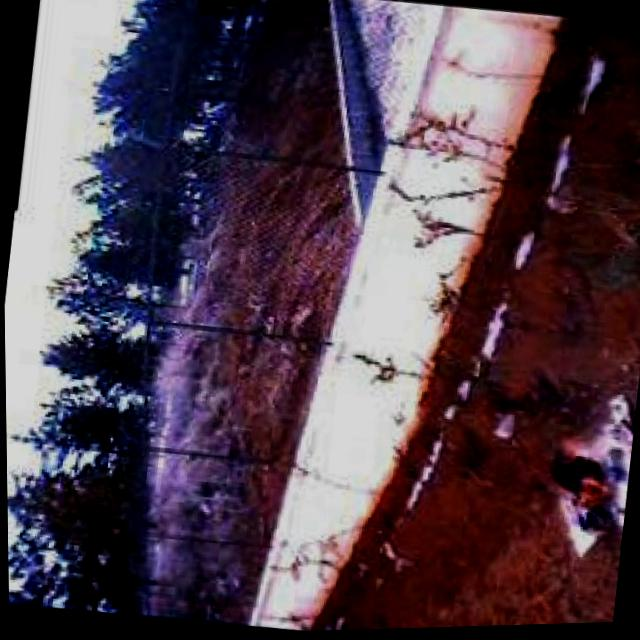Fire: (545, 437, 629, 532)
